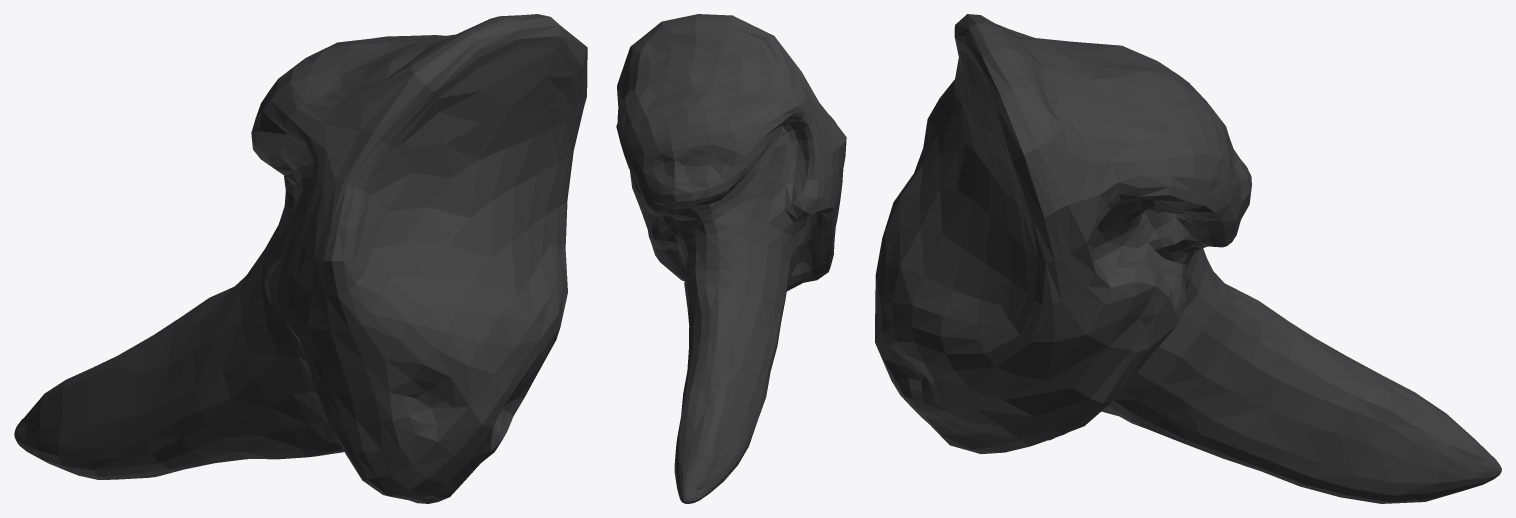
The model's file is Distal_phalange_2.glb.
The picture shows the model from 3 angles, left to right: view 1: azimuth 30°, elevation 25°; view 2: azimuth 150°, elevation 25°; view 3: azimuth 270°, elevation 25°; orthographic projection. The views are drawn at different scales.
Parts seen in each view (by area): view 1: Distal_phalange_2; view 2: Distal_phalange_2; view 3: Distal_phalange_2.
Part boxes in pixels (<box>): Distal_phalange_2: <box>14,14,587,503</box>; Distal_phalange_2: <box>616,14,846,503</box>; Distal_phalange_2: <box>875,14,1501,503</box>.
Bounding box in the file's own units: 0.1159 × 0.1723 × 0.1765.
1 material, 1 textured.
